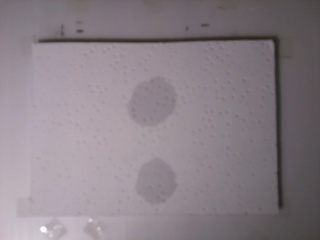Water_detected: (128, 75, 168, 119), (145, 169, 169, 193)
